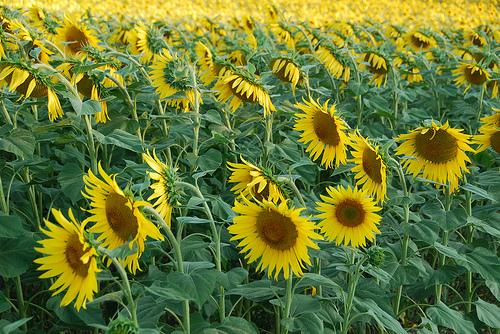sunflower: (81, 165, 164, 275), (227, 195, 320, 279), (35, 208, 99, 308), (395, 123, 480, 189), (317, 186, 382, 247), (293, 98, 348, 170), (0, 63, 64, 122), (343, 129, 390, 198), (144, 152, 183, 227), (214, 71, 275, 118), (51, 16, 98, 65), (74, 68, 108, 123), (356, 47, 388, 88)
